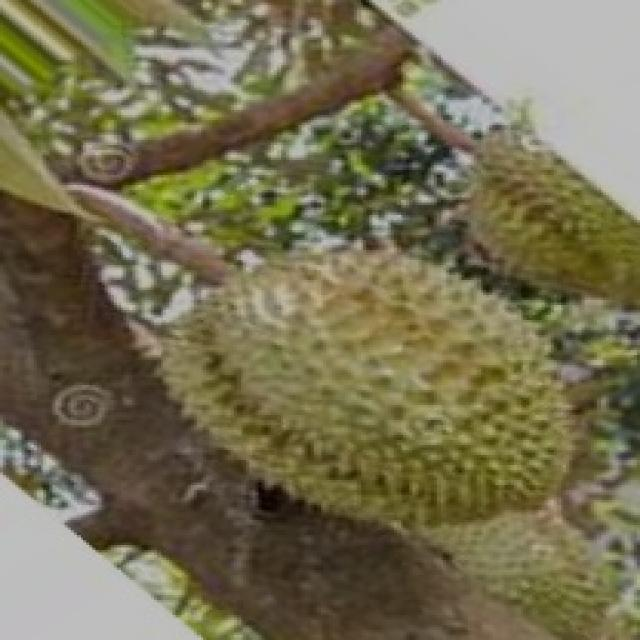fruit: (206, 210, 612, 580), (437, 108, 640, 330), (418, 492, 640, 640)
